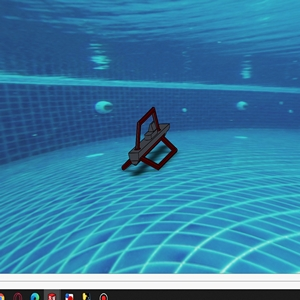submarine: (119, 108, 179, 168)
